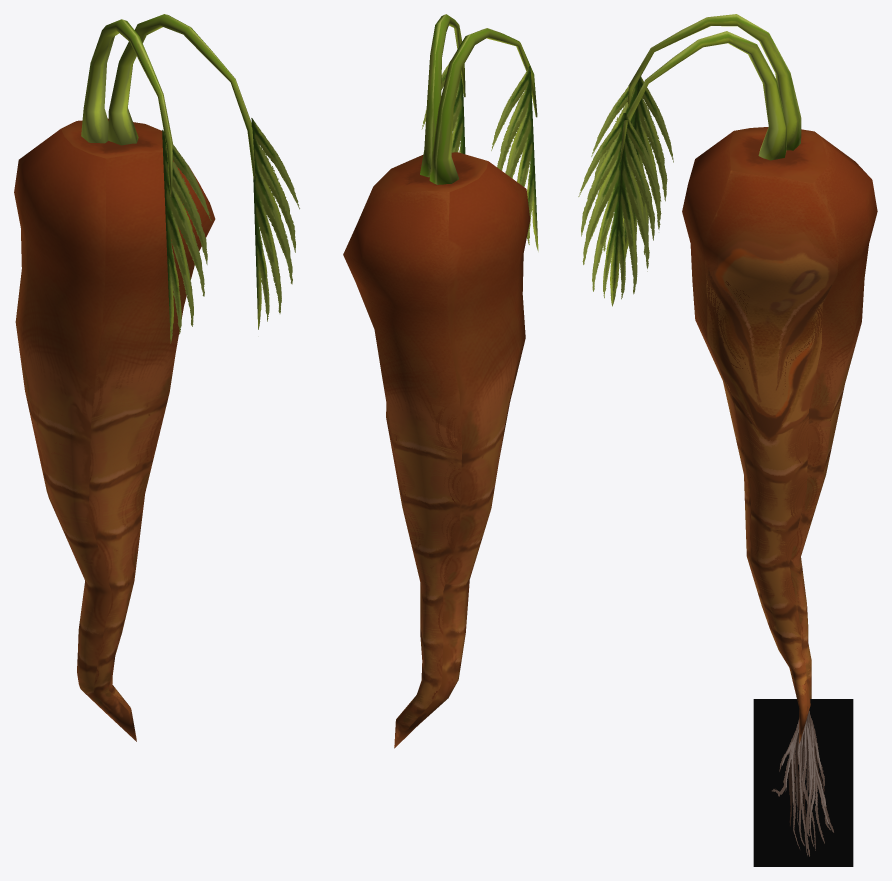
File: CreepyCarrot.fbx
3 renders of one model, left to right at view 1: azimuth 30°, elevation 25°; view 2: azimuth 150°, elevation 25°; view 3: azimuth 270°, elevation 25°, orthographic. The views are drawn at different scales.
Visible parts, largest first — view 1: CarrotBod, Leaf, Leaf.001, Stem, Stem2; view 2: CarrotBod, Stem, Leaf.001, Stem2, Leaf; view 3: CarrotBod, Roots, Leaf, Stem2, Leaf.001, Stem.
Part boxes in pixels (<box>): CarrotBod: <box>14,118,215,741</box>; Leaf: <box>251,118,299,329</box>; Leaf.001: <box>162,130,211,343</box>; Stem: <box>81,19,172,196</box>; Stem2: <box>108,14,255,179</box>; CarrotBod: <box>343,152,530,748</box>; Stem: <box>429,28,537,184</box>; Leaf.001: <box>491,66,538,251</box>; Stem2: <box>420,14,465,177</box>; Leaf: <box>421,61,465,154</box>; CarrotBod: <box>682,127,877,743</box>; Roots: <box>753,699,853,866</box>; Leaf: <box>578,113,661,306</box>; Stem2: <box>620,31,786,161</box>; Leaf.001: <box>591,76,673,259</box>; Stem: <box>627,14,801,150</box>.
Size of the model in its own units: 7.93 by 41.59 by 14.34.
